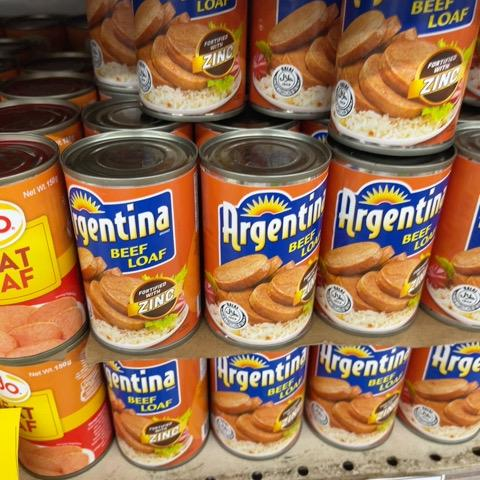canned-goods: (61, 129, 206, 355), (196, 128, 332, 350), (317, 129, 454, 340)
